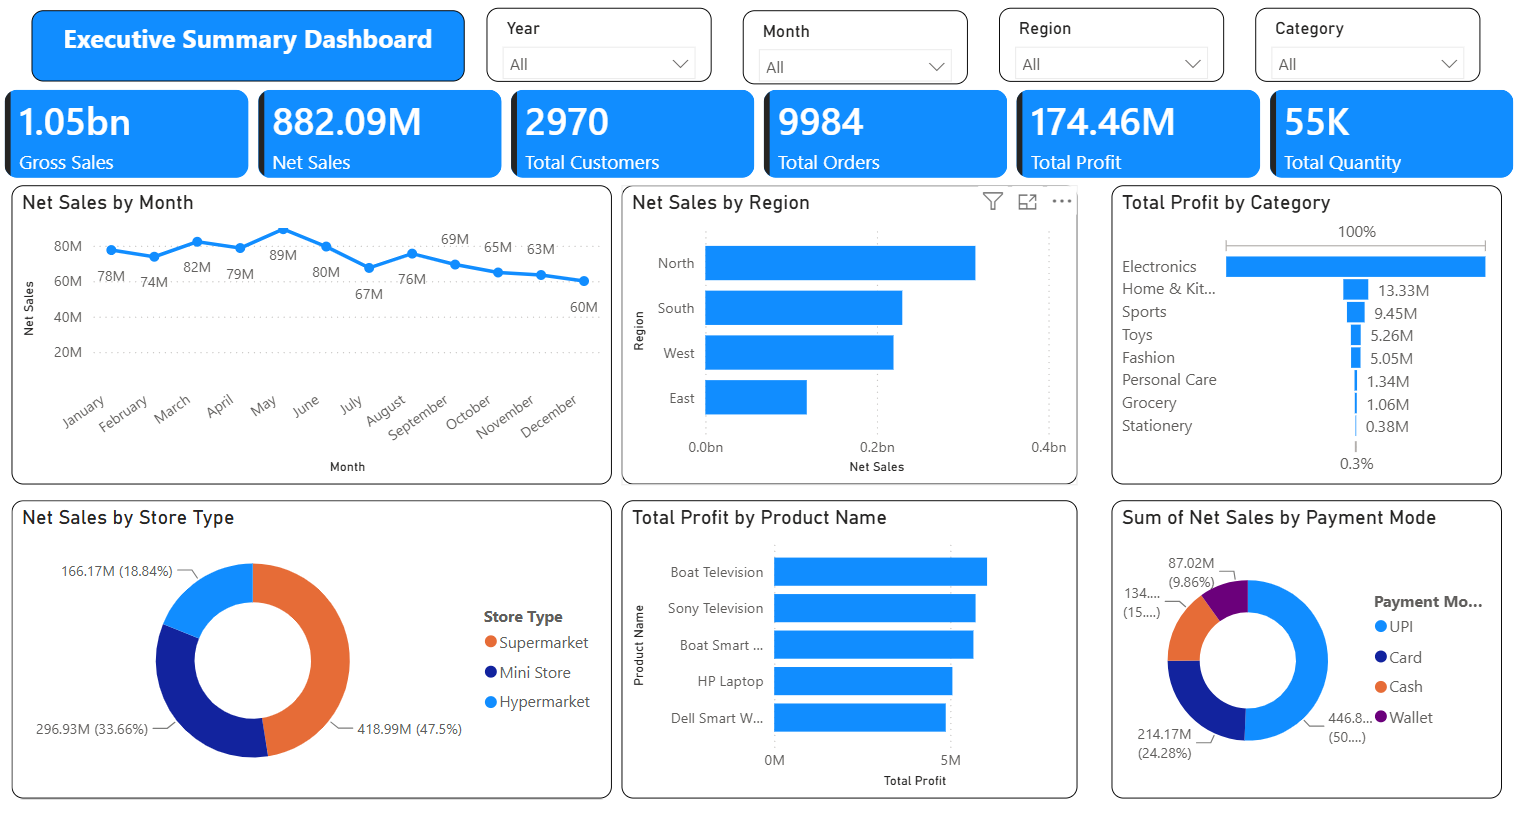

The dashboard page shown, as its layout file describes it:
{"tool":"powerbi","page":{"name":"Page 1","canvas":[1280,720],"ordinal":0},"visuals":[{"type":"slicer","fields":{"Values":["Date Table.Date.Variation.Date Hierarchy.Year"]},"box":[410.5,7,189.5,62.8],"z":0,"group":"g1"},{"type":"textbox","box":[27.4,9.6,365,60.4],"z":0},{"type":"slicer","fields":{"Values":["Customers.Region"]},"box":[842.3,7,189.5,62.8],"z":1000,"group":"g1"},{"type":"cardVisual","fields":{"Data":["All Measures.Gross Sales","All Measures.Net Sales","All Measures.Total Customers","All Measures.Total Orders","All Measures.Total Profit","All Measures.Total Quantity"]},"box":[0,72.1,1280.2,84.9],"z":1000},{"type":"group","id":"g1","title":"Group 1","box":[410.5,7,837.2,65.1],"z":2000},{"type":"slicer","fields":{"Values":["Products.Category"]},"box":[1058.2,7,189.5,62.8],"z":2000,"group":"g1"},{"type":"slicer","fields":{"Values":["Date Table.Date.Variation.Date Hierarchy.Month"]},"box":[626.4,9.3,189.5,62.8],"z":3000,"group":"g1"},{"type":"lineChart","fields":{"Category":["Date Table.Date.Variation.Date Hierarchy.Month"],"Y":["All Measures.Net Sales"]},"box":[10.5,157,505.8,252.3],"z":3000},{"type":"clusteredBarChart","fields":{"Category":["Customers.Region"],"Y":["All Measures.Net Sales"]},"box":[524.4,157,383.7,252.3],"z":4000},{"type":"funnel","fields":{"Category":["Products.Category"],"Y":["All Measures.Total Profit"]},"box":[937.2,157,329.1,252.3],"z":5000},{"type":"donutChart","fields":{"Category":["Store.Store Type"],"Y":["All Measures.Net Sales"]},"box":[10.5,422.1,505.8,251.2],"z":6000},{"type":"clusteredBarChart","fields":{"Category":["Products.Product Name"],"Y":["All Measures.Total Profit"]},"box":[524,422,384,251],"z":7000},{"type":"donutChart","fields":{"Category":["Sales.Payment Mode"],"Y":["Sum(Sales.Net Sales)"]},"box":[937,422,329,251],"z":8000}]}

Visuals, with their boxes in screenshot pixels (x1, y1, x2, y2), scaled from the page's 1280x720 canvas onto the 1517x832 screenshot:
slicer - Date Table.Date.Variation.Date Hierarchy.Year: Rect(487, 8, 711, 81)
textbox: Rect(32, 11, 465, 81)
slicer - Customers.Region: Rect(998, 8, 1223, 81)
cardVisual - All Measures.Gross Sales x All Measures.Net Sales: Rect(0, 83, 1516, 181)
"Group 1" group: Rect(487, 8, 1479, 83)
slicer - Products.Category: Rect(1254, 8, 1479, 81)
slicer - Date Table.Date.Variation.Date Hierarchy.Month: Rect(742, 11, 967, 83)
lineChart - Date Table.Date.Variation.Date Hierarchy.Month x All Measures.Net Sales: Rect(12, 181, 612, 473)
clusteredBarChart - Customers.Region x All Measures.Net Sales: Rect(621, 181, 1076, 473)
funnel - Products.Category x All Measures.Total Profit: Rect(1111, 181, 1501, 473)
donutChart - Store.Store Type x All Measures.Net Sales: Rect(12, 488, 612, 778)
clusteredBarChart - Products.Product Name x All Measures.Total Profit: Rect(621, 488, 1076, 778)
donutChart - Sales.Payment Mode x Sum(Sales.Net Sales): Rect(1110, 488, 1500, 778)
